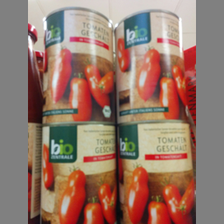tomato_sauce: (41, 6, 115, 123), (37, 124, 117, 224), (118, 120, 194, 224), (114, 9, 180, 121)
